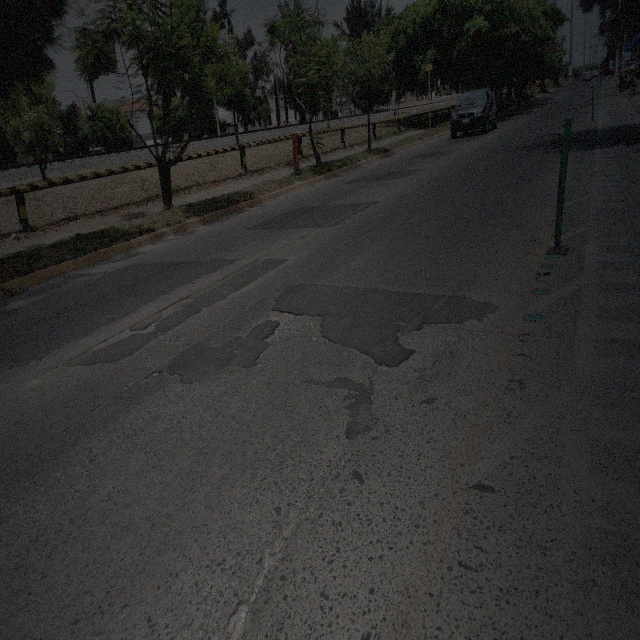pothole: (89, 312, 154, 356), (270, 308, 323, 345), (160, 294, 190, 321), (149, 367, 160, 380)
